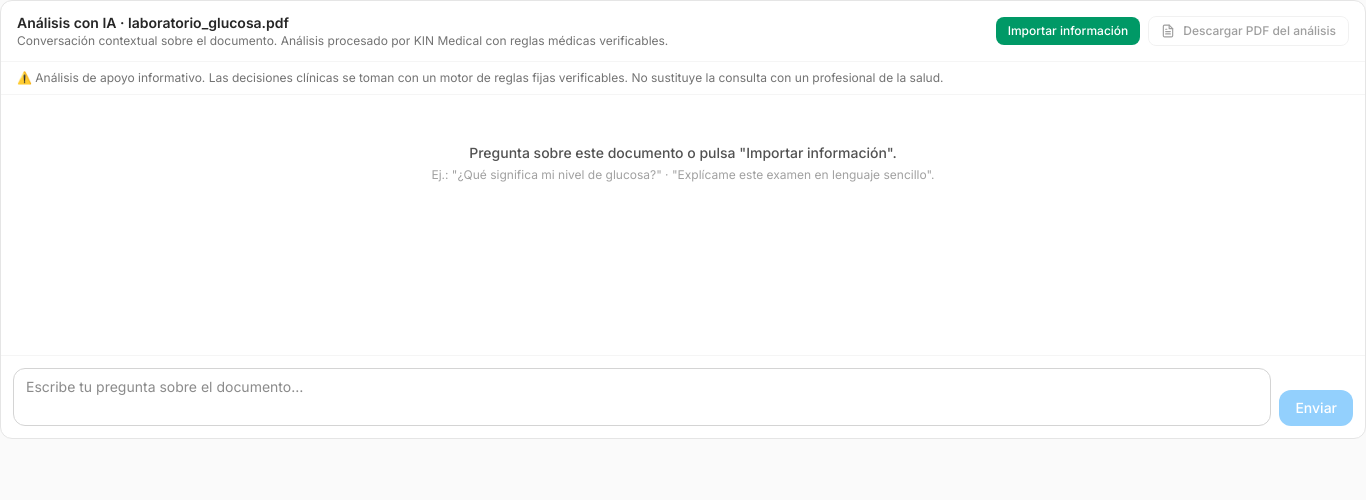
Test case: DocumentChatPanel › carga el historial y permite enviar una pregunta
Type "¿Qué significa 110?" into the text box labelled "pregunta sobre el documento".
click(642, 397); type("¿Qué significa 110?")  # box [13, 368, 1271, 426]
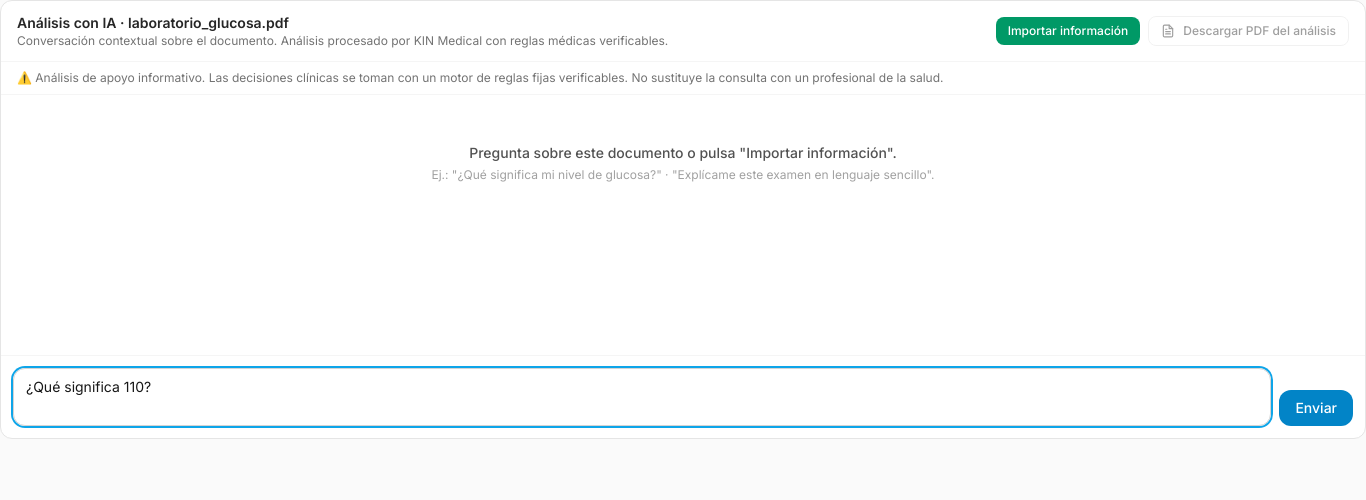
Click the button "Enviar".
click(1316, 408)  # box [1279, 390, 1353, 426]
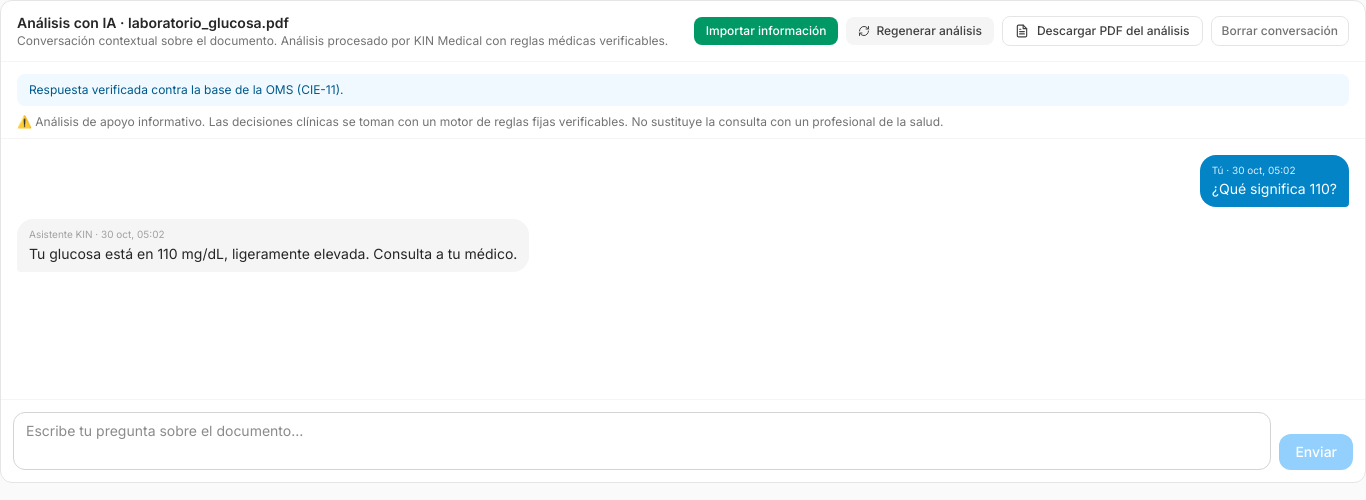
Check: the text "Tu glucosa está en 110 mg/dL" is shown, box [29, 245, 517, 262]
Check: the text "Respuesta verificada contra la base de la OMS (CIE-11)." is shown, box [17, 74, 1349, 106]
